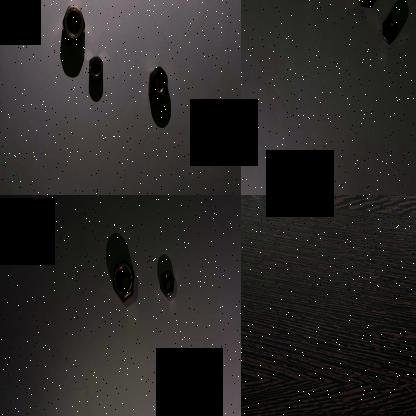NUTS: (110, 250, 136, 304), (58, 2, 85, 46), (146, 64, 168, 104), (156, 262, 178, 300), (86, 52, 106, 84), (379, 14, 398, 44)
